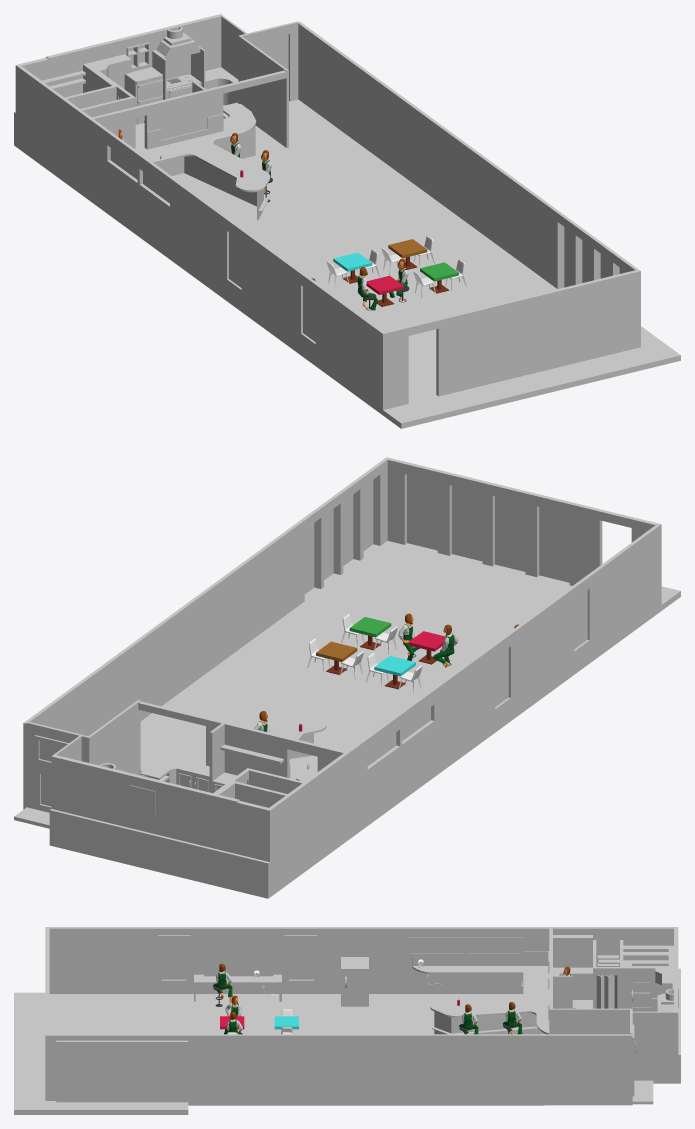
Rendered from env_small.dae.
3 views of the same model, one above another, from view 1: azimuth 30°, elevation 25°; view 2: azimuth 150°, elevation 25°; view 3: azimuth 270°, elevation 25° (orthographic). The views are drawn at different scales.
Visible parts, largest first — view 1: base; view 2: base; view 3: base (×2).
Part boxes in pixels (x1=…): base: x1=14, y1=14, x2=680, y2=428; base: x1=14, y1=457, x2=680, y2=898; base (×2): x1=14, y1=927, x2=680, y2=1114.
Bounding box in the file's own units: 10.17 × 24.41 × 3.02.
